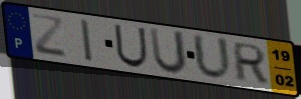I: (79, 17, 96, 64)
R: (232, 41, 269, 85)
U: (190, 31, 234, 82), (148, 25, 189, 77), (112, 22, 149, 69)
Z: (29, 12, 69, 60)
